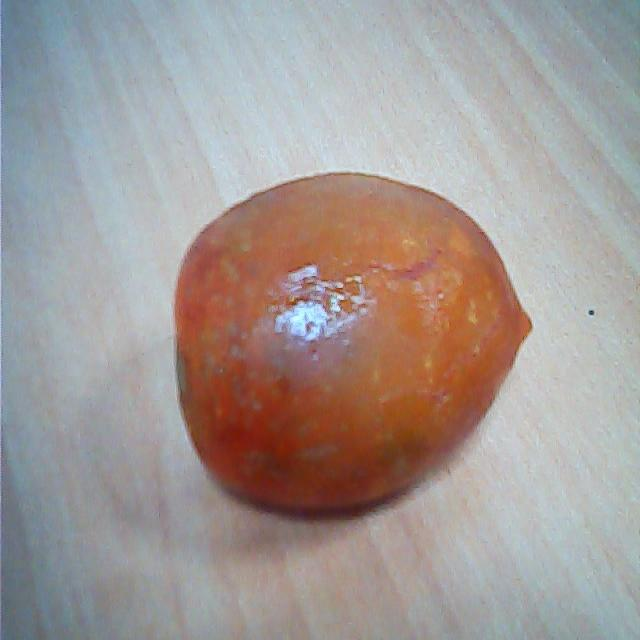verde: (165, 161, 536, 526)
